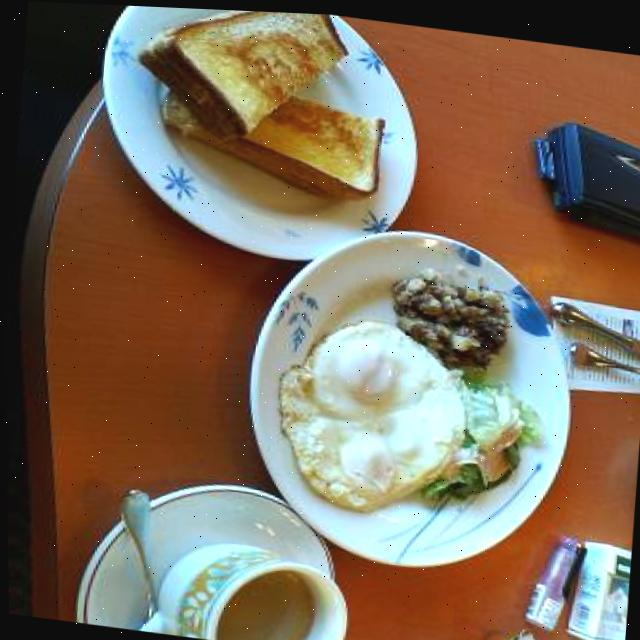面包点心: (80, 3, 428, 298)
鸡蛋料理: (245, 295, 471, 526)
